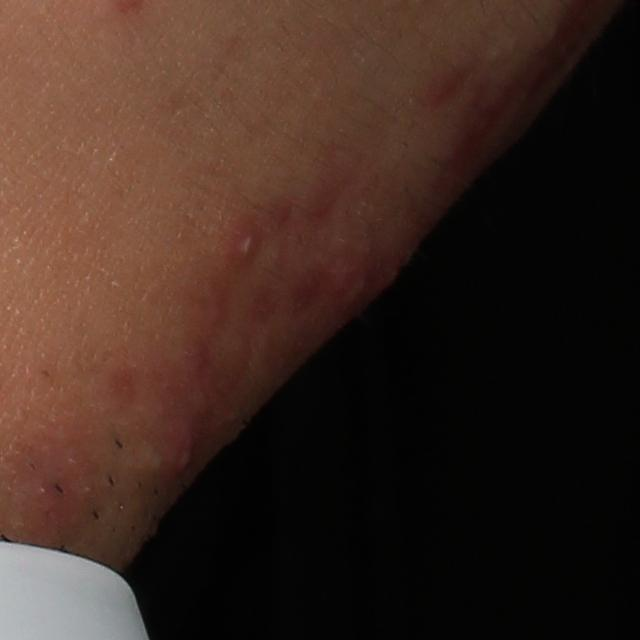pustule: (229, 221, 269, 265), (165, 434, 201, 480)
